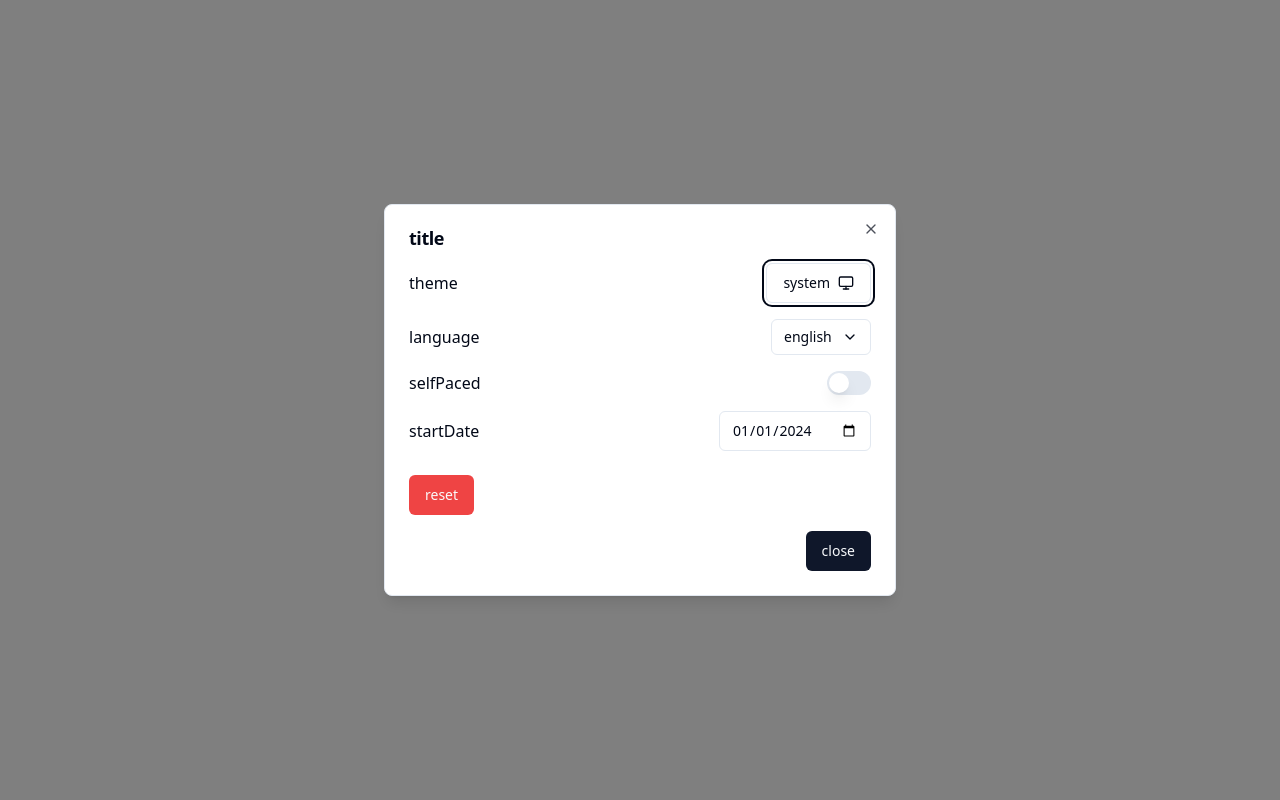
it: SettingsDialog › Language Selector › shows German as an available language
The image size is (1280, 800).
Click the button "english" at {"x": 821, "y": 337}, box x1=771 y1=319 x2=871 y2=355
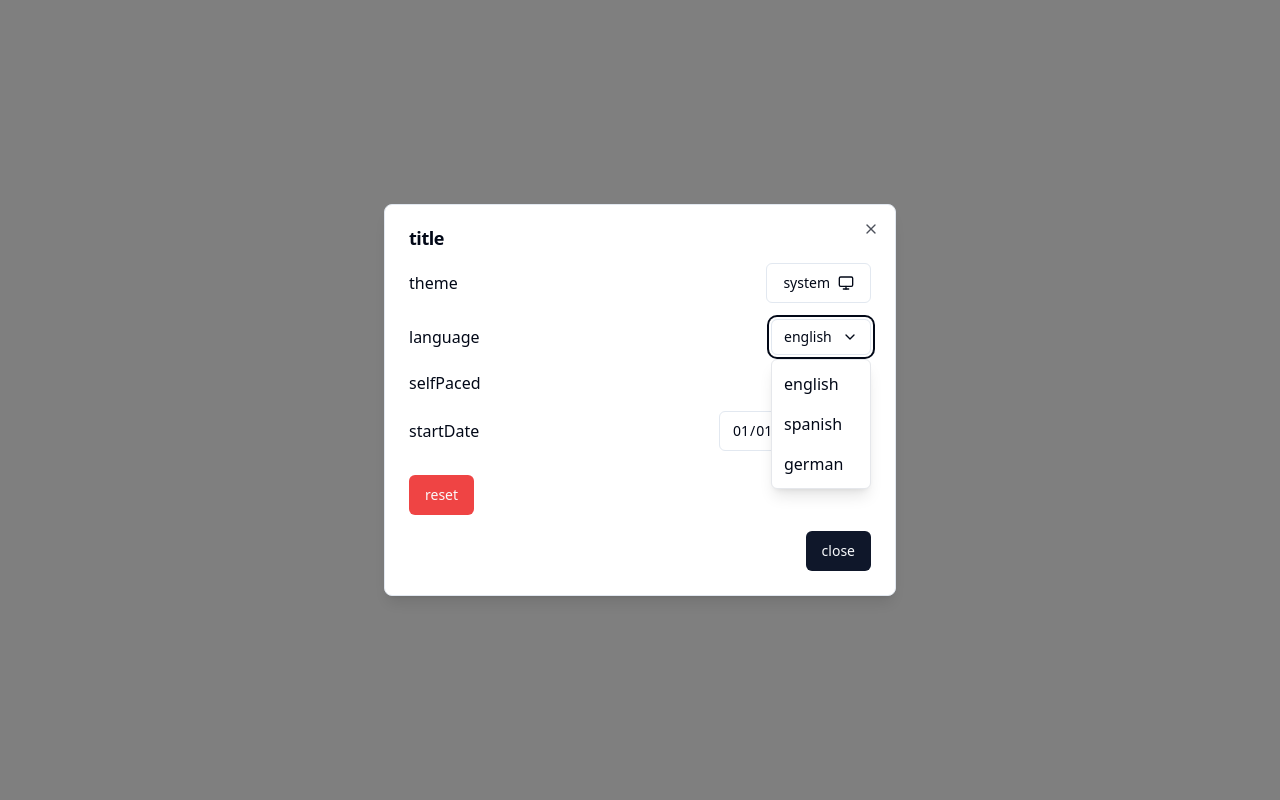
Result: the button "spanish" is shown at x1=772 y1=404 x2=870 y2=444
Result: the button "german" is shown at x1=772 y1=444 x2=870 y2=484
